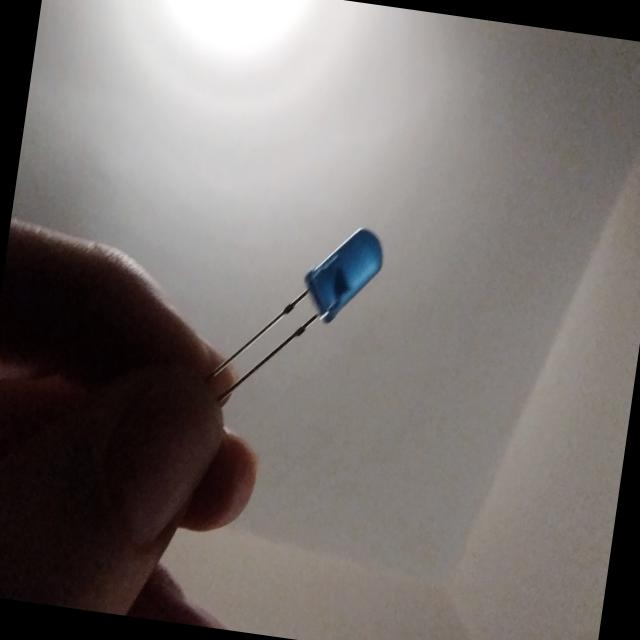blue_led: (198, 198, 392, 412)
